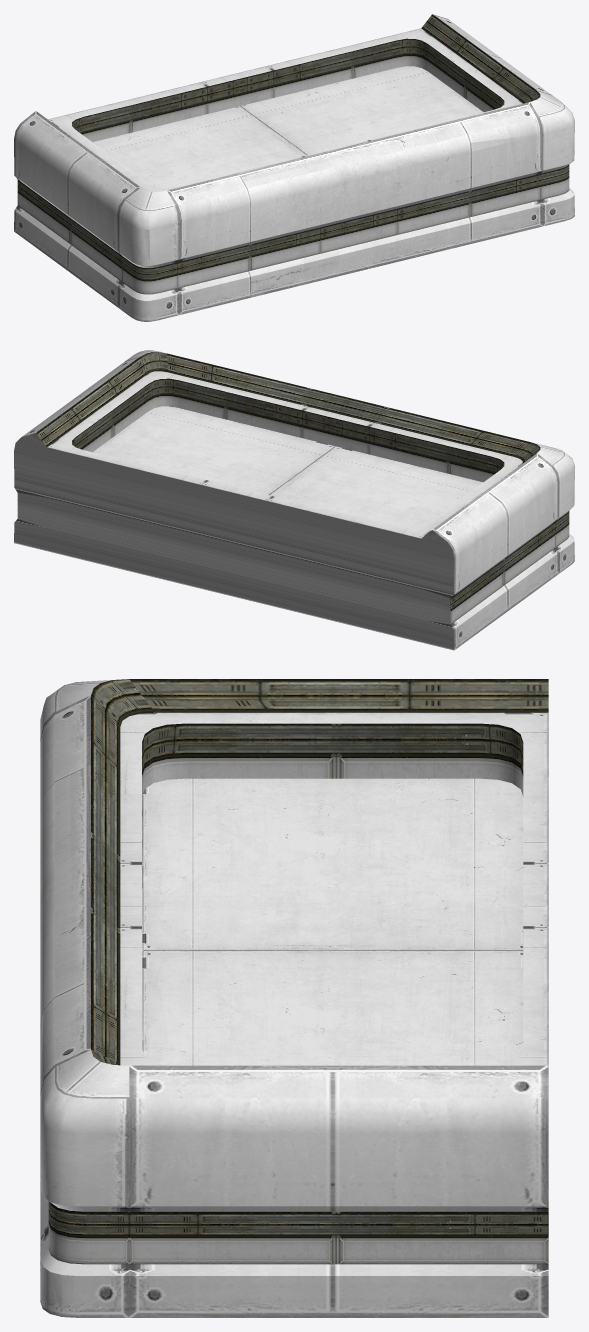
File: Emb_PlanterBalc_4X2open.FBX
The picture shows the model from 3 angles, top to bottom: view 1: azimuth 30°, elevation 25°; view 2: azimuth 150°, elevation 25°; view 3: azimuth 270°, elevation 25°; orthographic projection. The views are drawn at different scales.
Visible parts, largest first — view 1: Emb_PlanterBalc_4X2open; view 2: Emb_PlanterBalc_4X2open; view 3: Emb_PlanterBalc_4X2open.
Boxes of the visible parts, box(x1,y1,x2,y2) form: Emb_PlanterBalc_4X2open: box(14, 14, 574, 321); Emb_PlanterBalc_4X2open: box(14, 350, 574, 650); Emb_PlanterBalc_4X2open: box(40, 679, 548, 1317).
Bounding box in the file's own units: 4 × 1 × 2.
